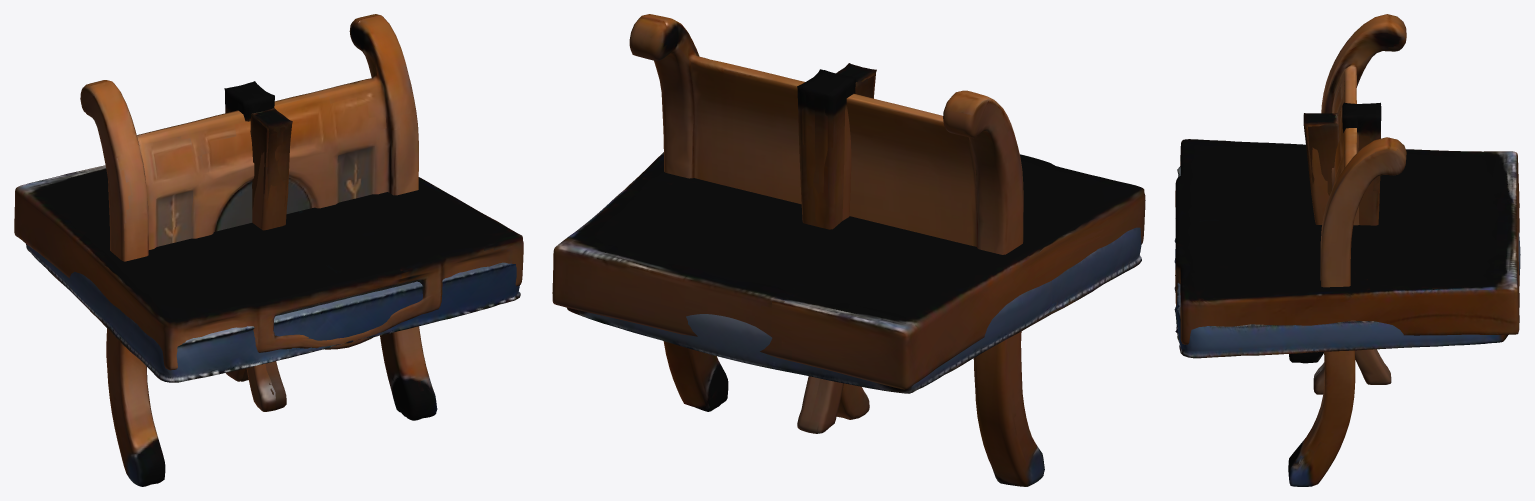
The picture shows the model from 3 angles, left to right: view 1: azimuth 30°, elevation 25°; view 2: azimuth 150°, elevation 25°; view 3: azimuth 270°, elevation 25°; orthographic projection. The views are drawn at different scales.
Parts seen in each view (by area): view 1: root.1, root.0, root.2, root.6, root.5, root.3, root.4; view 2: root.1, root.0, root.2, root.3, root.4, root.5, root.6; view 3: root.1, root.0, root.2, root.6, root.3, root.5, root.4.
Boxes of the visible parts, <box> form: root.1: <box>14,165,523,370</box>; root.0: <box>80,14,437,486</box>; root.2: <box>26,244,520,382</box>; root.6: <box>241,108,292,381</box>; root.5: <box>226,108,292,381</box>; root.3: <box>229,81,276,411</box>; root.4: <box>224,82,286,410</box>; root.1: <box>552,152,1145,389</box>; root.0: <box>629,14,1044,486</box>; root.2: <box>567,227,1141,393</box>; root.3: <box>797,70,869,419</box>; root.4: <box>801,69,852,417</box>; root.5: <box>806,64,876,433</box>; root.6: <box>797,63,876,432</box>; root.1: <box>1175,139,1519,344</box>; root.0: <box>1288,14,1406,486</box>; root.2: <box>1174,166,1520,358</box>; root.6: <box>1303,113,1391,384</box>; root.3: <box>1313,102,1381,378</box>; root.5: <box>1303,113,1391,383</box>; root.4: <box>1313,102,1381,394</box>.
Bounding box in the file's own units: 18633 × 18083 × 16638.
Materials: 1 (1 with a texture image).
